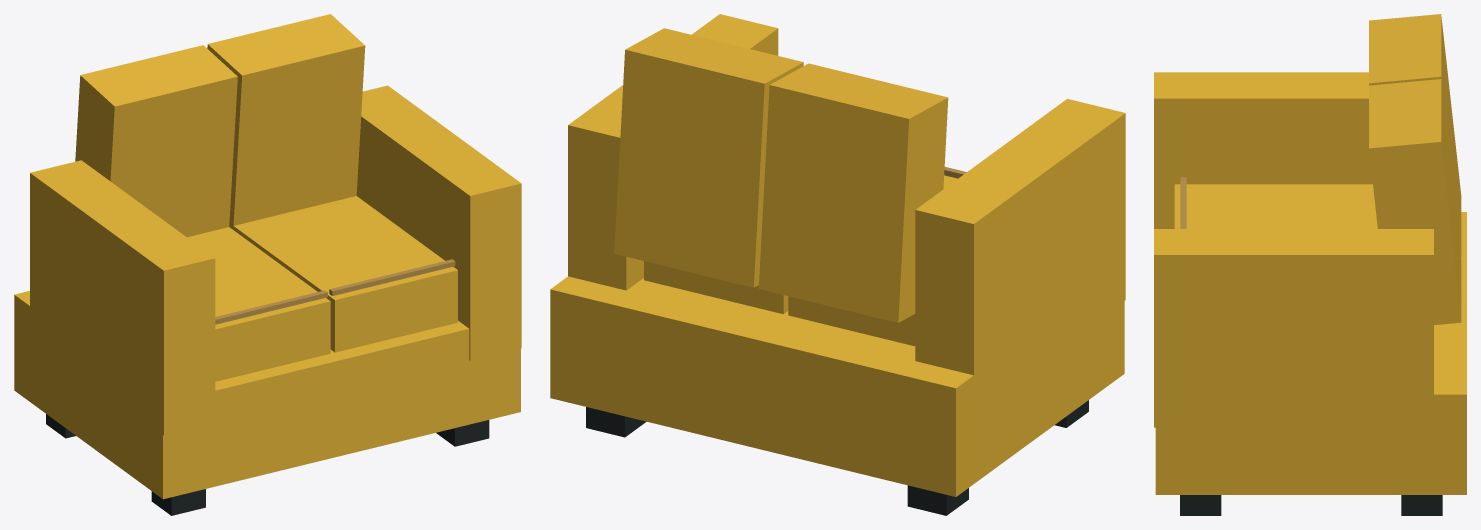
The model's file is good.glb.
3 renders of one model, left to right at view 1: azimuth 30°, elevation 25°; view 2: azimuth 150°, elevation 25°; view 3: azimuth 270°, elevation 25°, orthographic. The views are drawn at different scales.
Parts seen in each view (by area): view 1: Armrest, Sofa foot, Upholstery piping; view 2: Armrest, Sofa foot; view 3: Armrest, Sofa foot, Upholstery piping.
Boxes of the visible parts, left/top/right/bottom form: Armrest: left=14, top=14, right=521, bottom=499; Sofa foot: left=46, top=414, right=489, bottom=515; Upholstery piping: left=215, top=259, right=455, bottom=324; Armrest: left=550, top=14, right=1125, bottom=496; Sofa foot: left=586, top=400, right=1088, bottom=515; Armrest: left=1154, top=14, right=1466, bottom=494; Sofa foot: left=1180, top=495, right=1442, bottom=515; Upholstery piping: left=1180, top=177, right=1186, bottom=228.
Bounding box in the file's own units: 1 × 0.9112 × 0.724.
